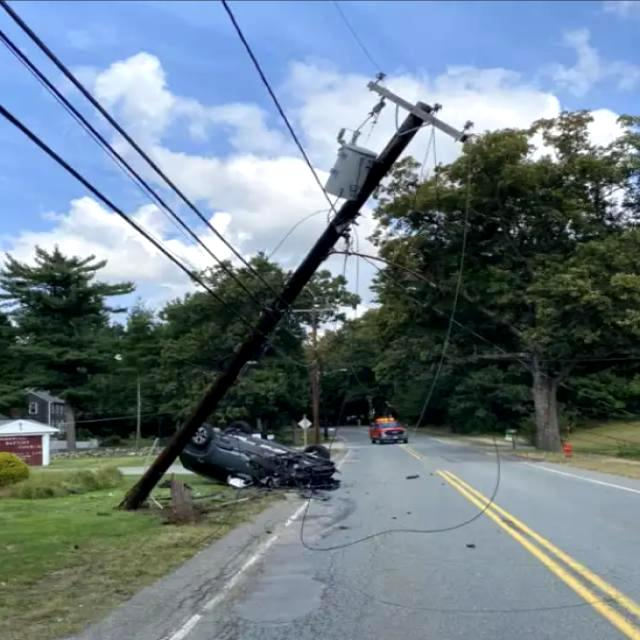Broken Pole: (95, 62, 501, 522)
